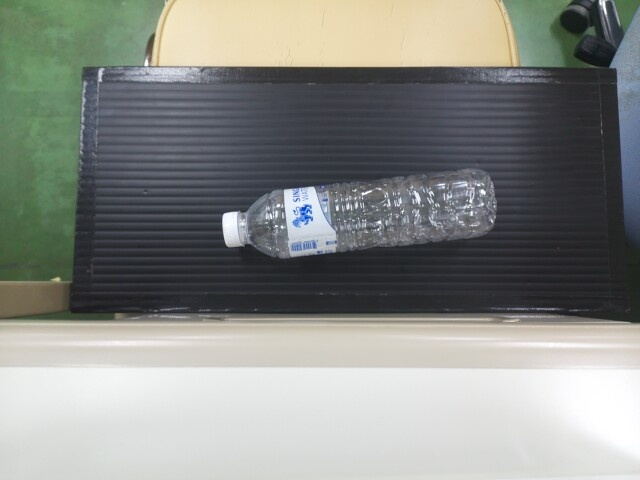plastic_bottle: (219, 179, 501, 256)
